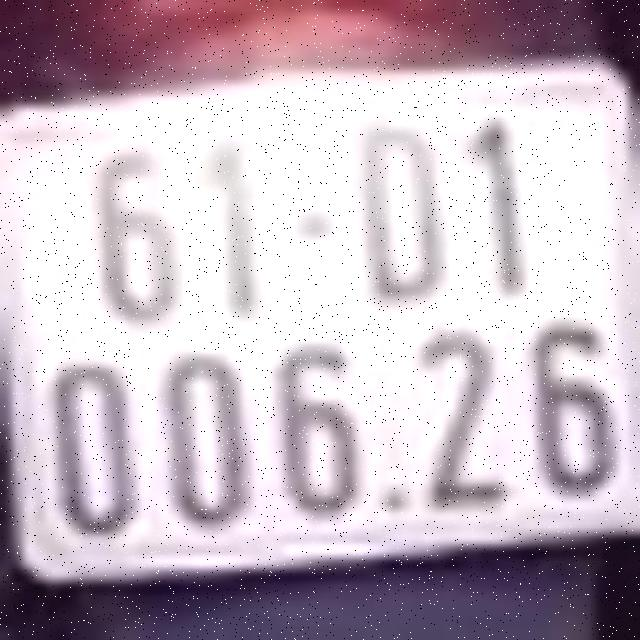0: (164, 344, 252, 527), (51, 354, 138, 536)
1: (462, 109, 538, 299), (198, 121, 268, 321)
2: (414, 321, 510, 510)
6: (92, 139, 182, 326), (531, 312, 618, 498), (276, 337, 362, 517)
D: (350, 113, 450, 304)
